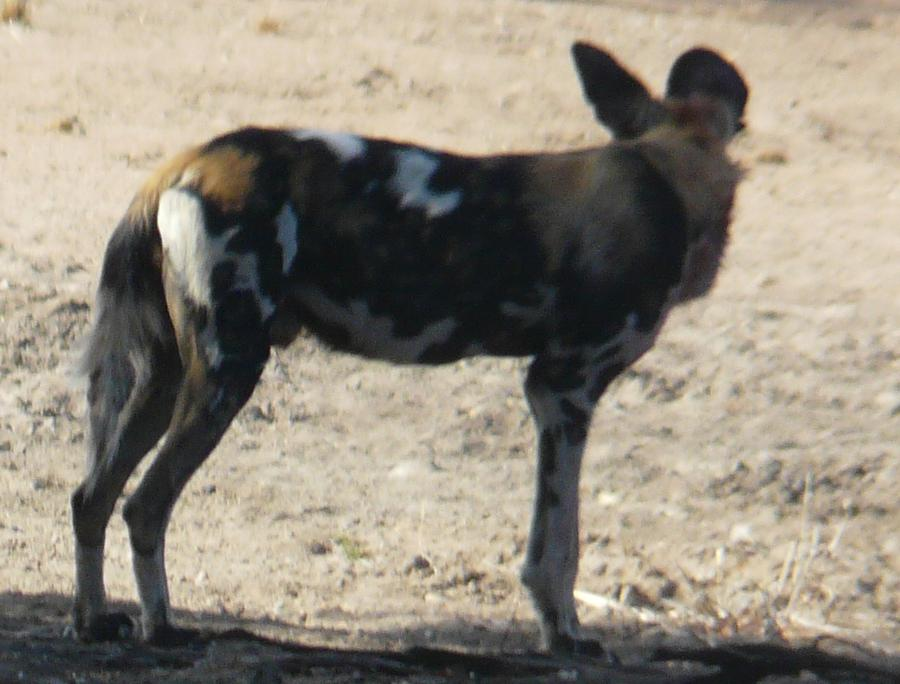wilddog: (91, 41, 798, 504)
